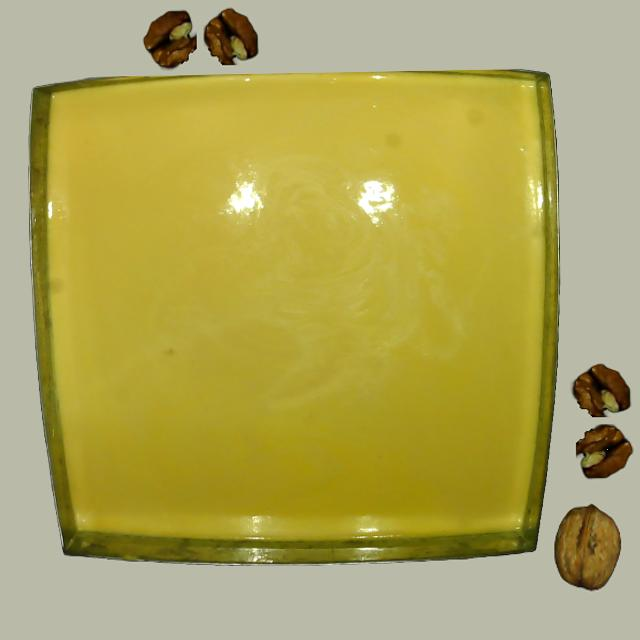Walnut: (552, 503, 622, 589)
